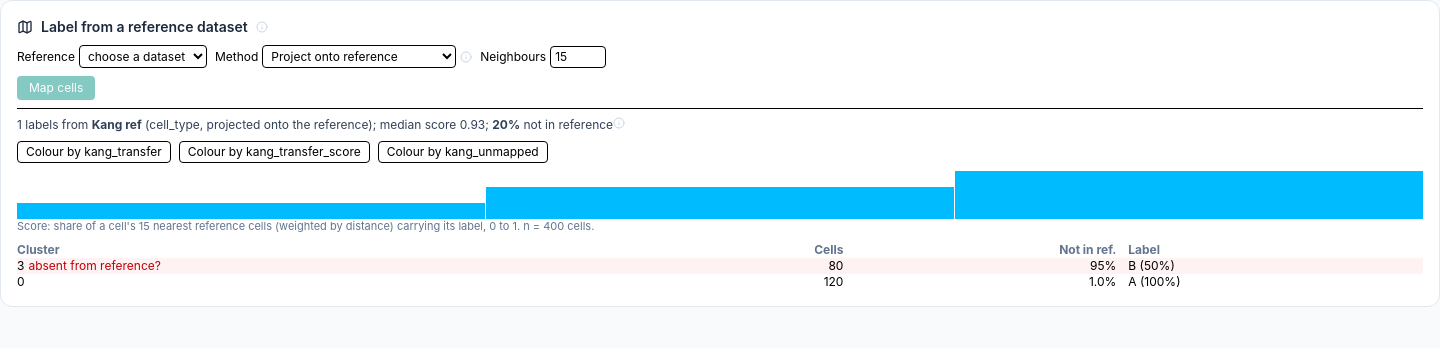
Test: ReferenceMappingCard › shows a refusal and the last saved mapping
Expected: the element with test id "reference-mapping-result" is shown, [17, 108, 1423, 290]
Step 1. Select "Kang ref" in the dropdown named "Reference dataset" → (143, 56), box [79, 45, 207, 68]
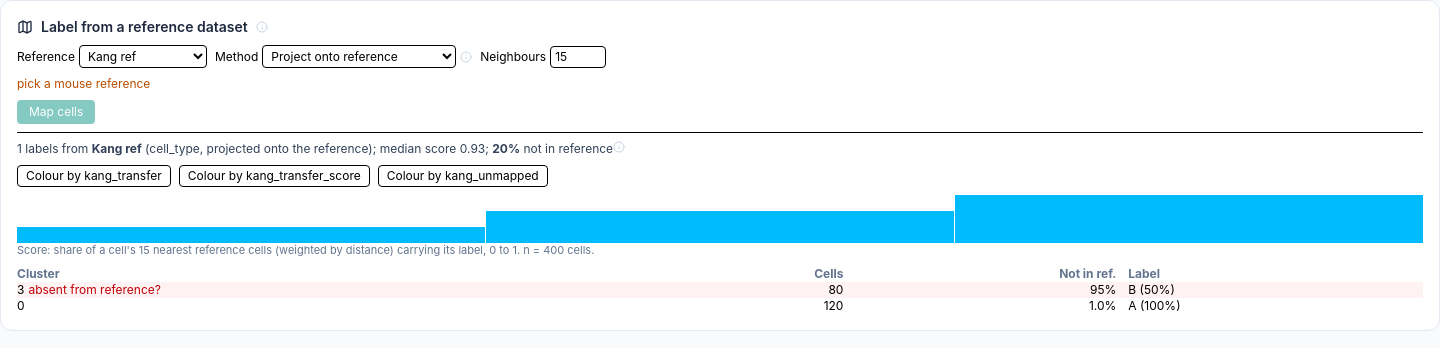
Expected: the button "Map cells" is disabled, [17, 100, 95, 124]
Now the text "pick a mouse reference" is shown, box [17, 76, 150, 91]
